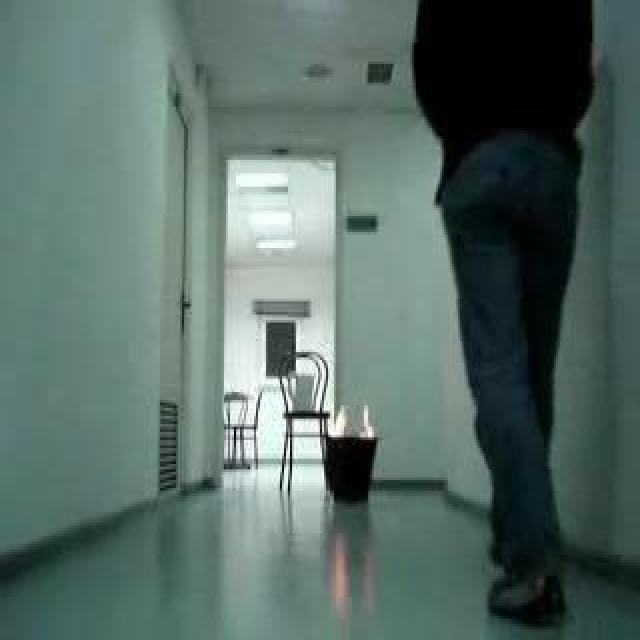Fire: (357, 403, 377, 440)
